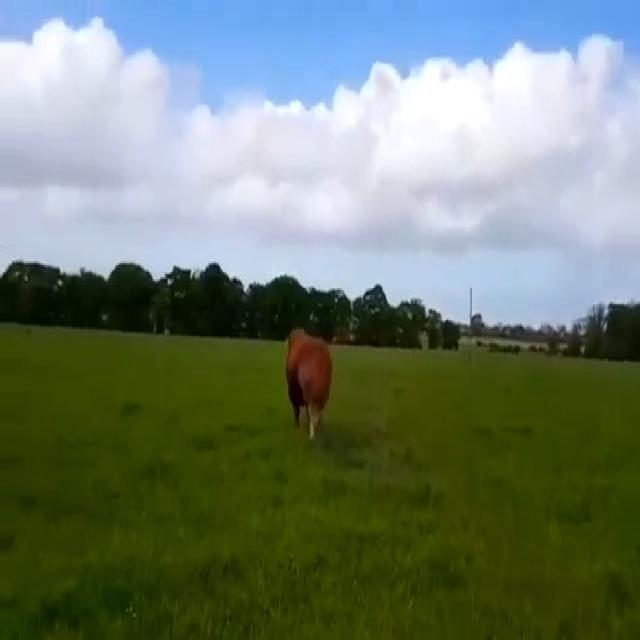COW: (286, 329, 332, 437)
